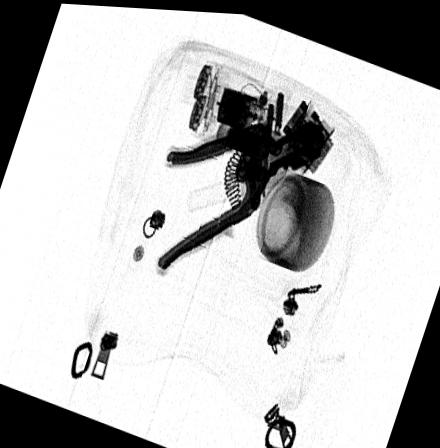Pliers: (158, 115, 327, 271)
